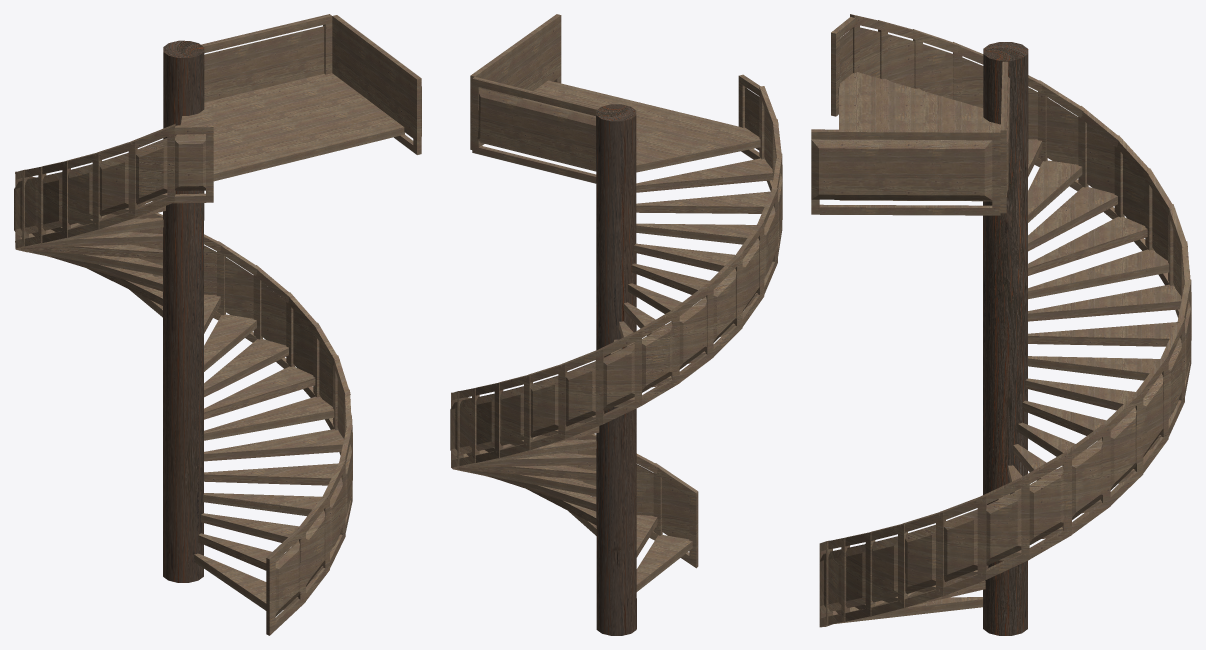
Rendered from OU_AR_Stair_02_D.fbx.
3 views of the same model, side by side, from view 1: azimuth 30°, elevation 25°; view 2: azimuth 150°, elevation 25°; view 3: azimuth 270°, elevation 25° (orthographic). The views are drawn at different scales.
Parts seen in each view (by area): view 1: Line387; view 2: Line387; view 3: Line387.
Boxes of the visible parts, x1,y1,x2,y2 form: Line387: (14,14,421,635); Line387: (450,14,782,635); Line387: (811,14,1191,635).
Bounding box in the file's own units: 344 × 573 × 343.
2 materials, 2 textured.
